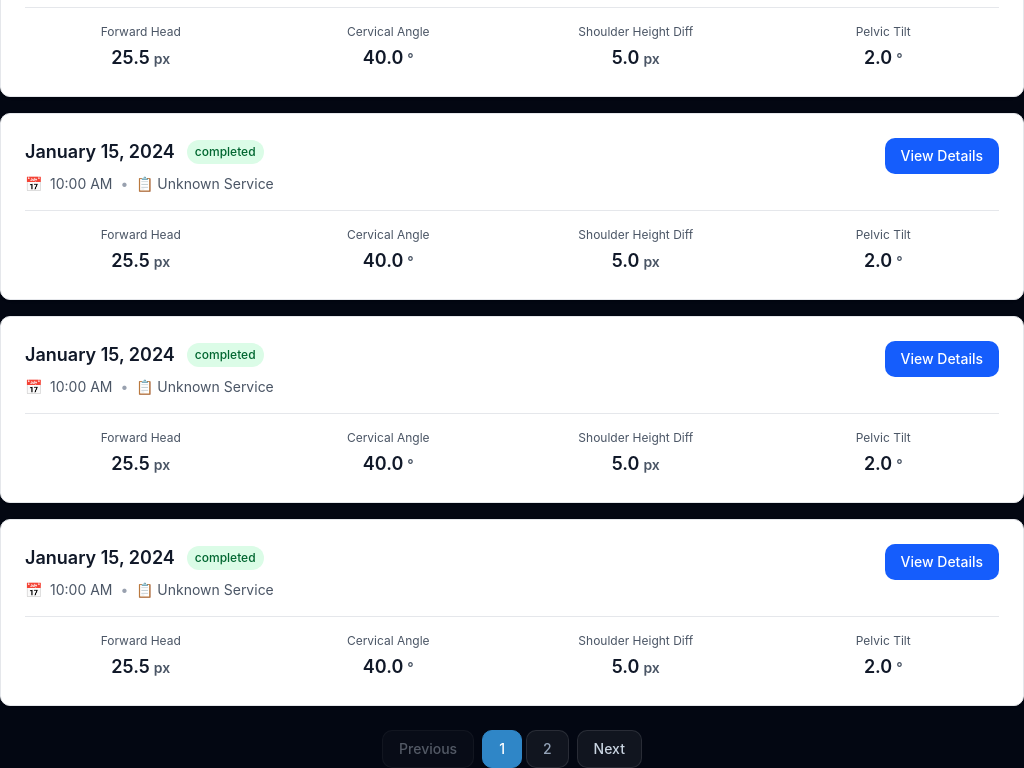
Test: AssessmentHistory › Pagination › should navigate to next page when Next is clicked
(page scrolled)
Click the button "Next": (609,749) [577, 730, 642, 767]
(page scrolled)
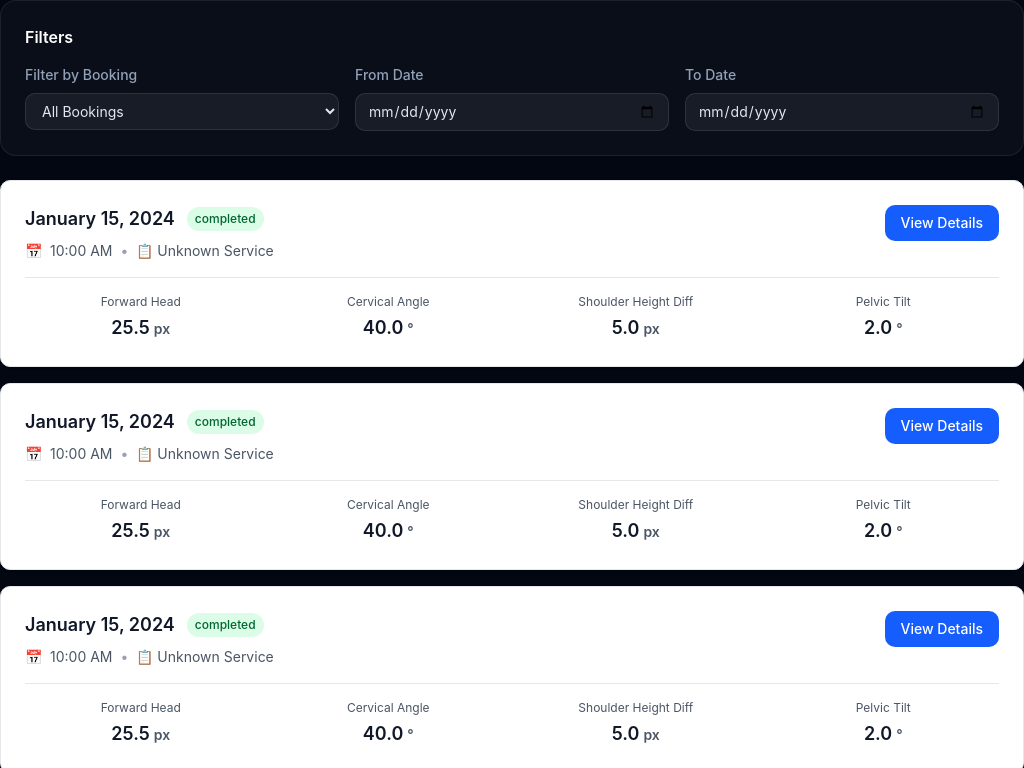
Expected: the number of buttons named "View details for assessment" is 5
